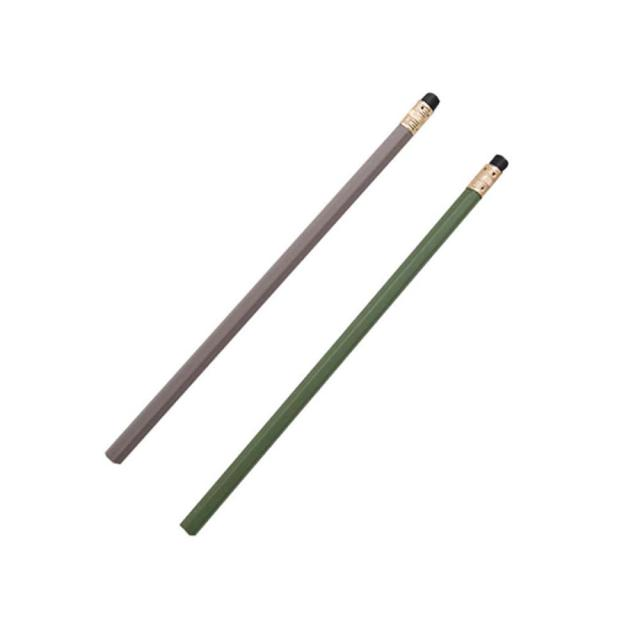pencil: (167, 149, 522, 548), (96, 84, 451, 472)
